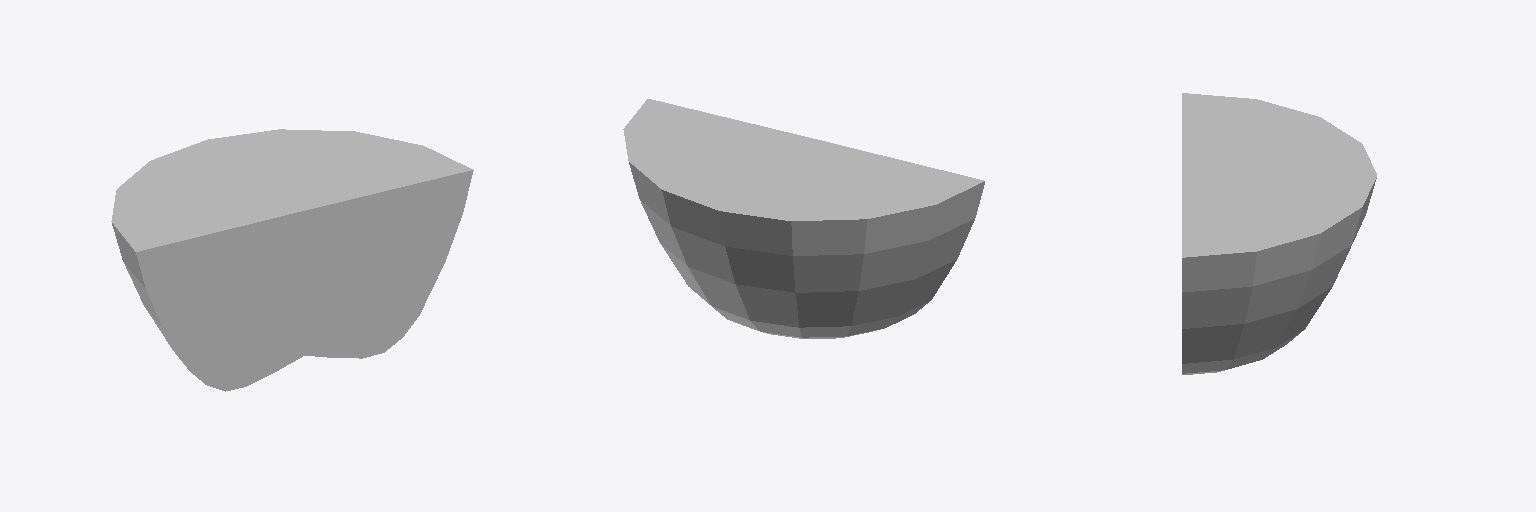
File: Manzana-1_4AA.obj
3 renders of one model, left to right at view 1: azimuth 30°, elevation 25°; view 2: azimuth 150°, elevation 25°; view 3: azimuth 270°, elevation 25°, orthographic.
Visible parts, largest first — view 1: Manzana-1_4AA_Sphere.009; view 2: Manzana-1_4AA_Sphere.009; view 3: Manzana-1_4AA_Sphere.009.
Boxes of the visible parts, x1=… form: Manzana-1_4AA_Sphere.009: x1=111, y1=129, x2=473, y2=391; Manzana-1_4AA_Sphere.009: x1=623, y1=99, x2=984, y2=338; Manzana-1_4AA_Sphere.009: x1=1182, y1=93, x2=1376, y2=374.
Bounding box in the file's own units: 3.53 × 1.62 × 1.76.